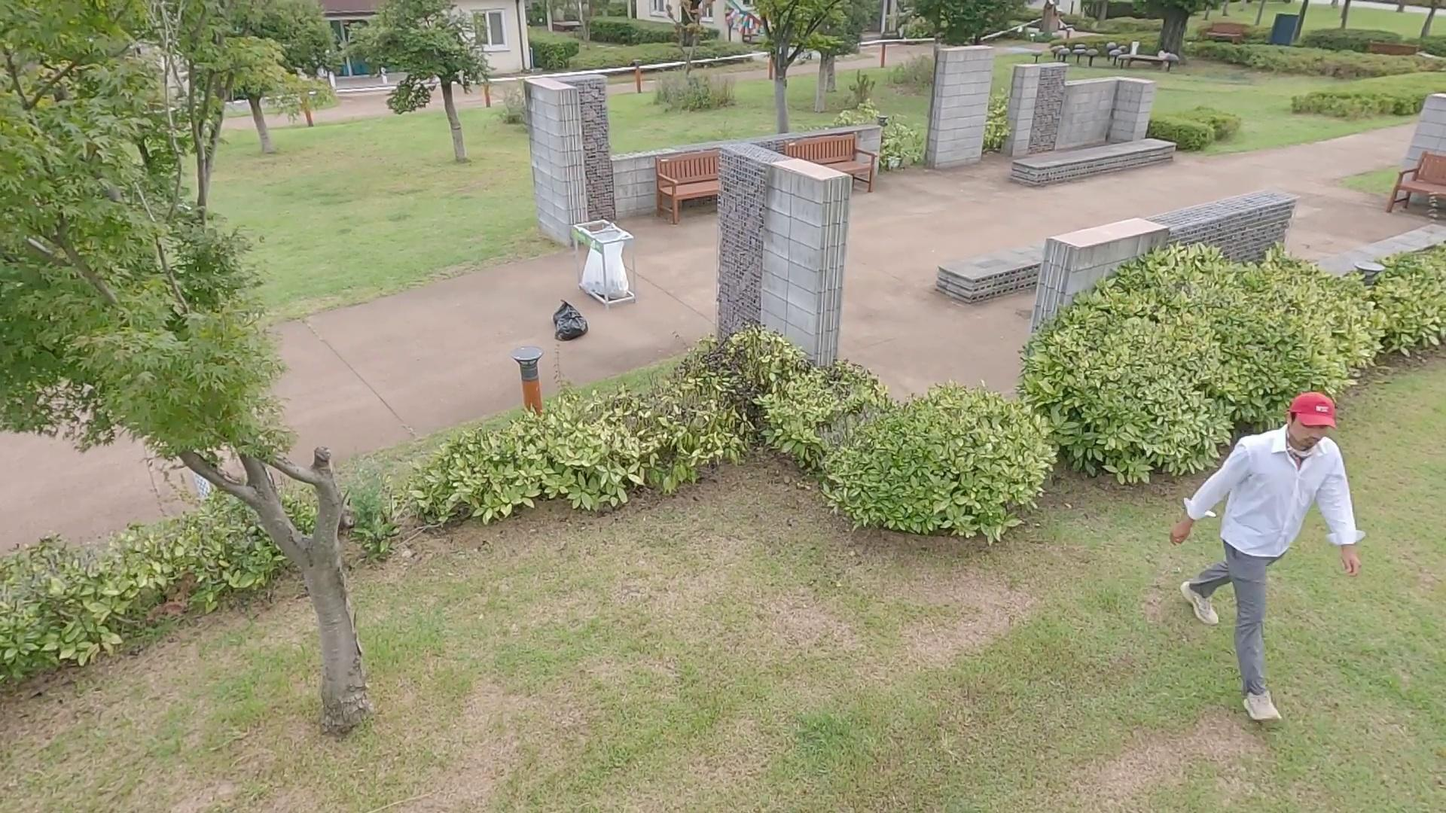person: (1169, 392, 1368, 725)
trash: (556, 311, 588, 340), (554, 298, 583, 329)
